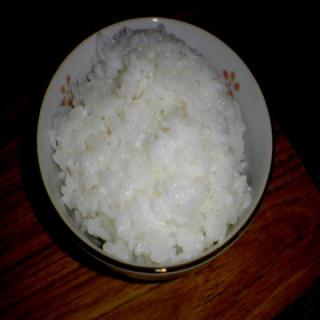Nasi: (47, 22, 255, 266)
